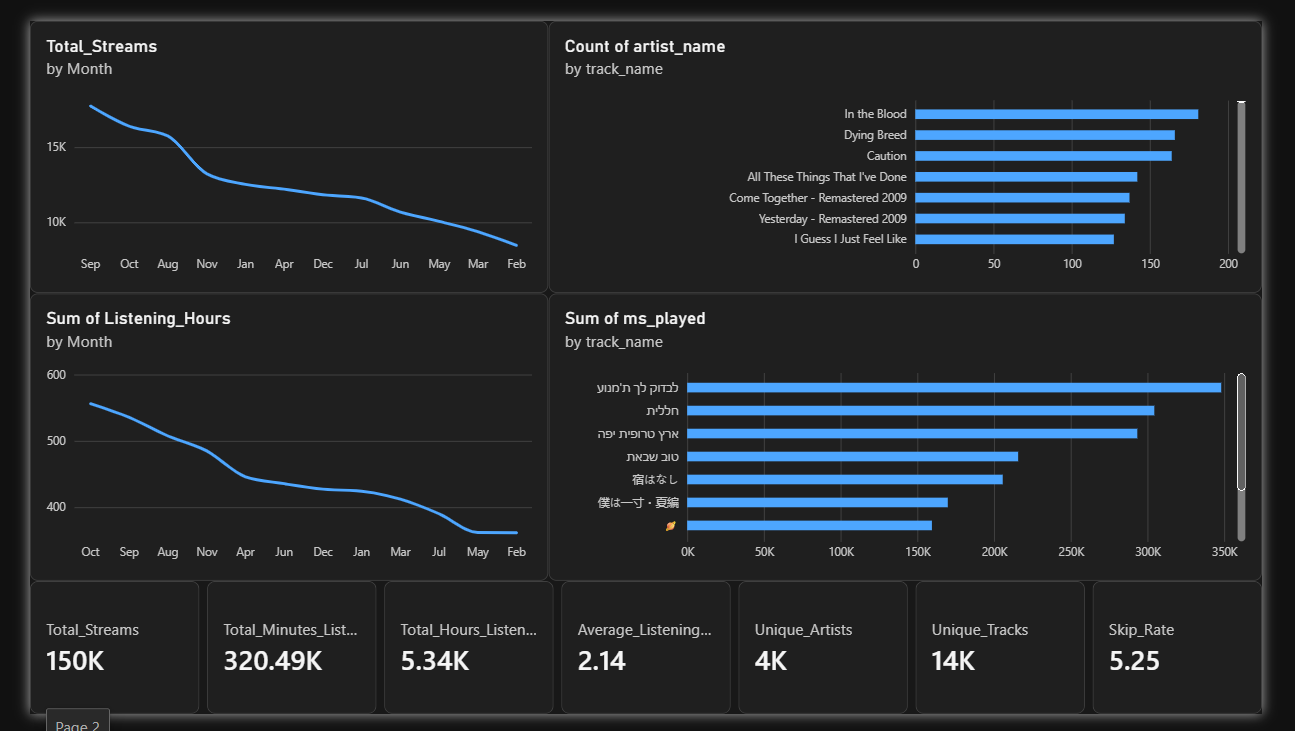

The dashboard page shown, as its layout file describes it:
{"tool":"powerbi","page":{"name":"Page 1","canvas":[1280,720],"ordinal":0},"visuals":[{"type":"cardVisual","fields":{"Data":["spotify_history.Total_Streams","spotify_history.Total_Minutes_Listened","spotify_history.Total_Hours_Listened","spotify_history.Average_Listening_Time","spotify_history.Unique_Artists","spotify_history.Unique_Tracks","spotify_history.Skip_Rate"]},"box":[0,581.7,1280.3,138.2],"z":0},{"type":"lineChart","fields":{"Category":["spotify_history.Month"],"Y":["spotify_history.Total_Streams"]},"box":[0,0,538.7,282.6],"z":1000},{"type":"lineChart","fields":{"Category":["spotify_history.Month"],"Y":["Sum(spotify_history.Listening_Hours)"]},"box":[0,282.6,538.7,298.7],"z":2000},{"type":"clusteredBarChart","fields":{"Category":["spotify_history.track_name"],"Y":["CountNonNull(spotify_history.artist_name)"]},"box":[538.7,0,740.9,282.6],"z":3000},{"type":"clusteredBarChart","fields":{"Category":["spotify_history.track_name"],"Y":["Sum(spotify_history.ms_played)"]},"box":[538.7,282.6,740.9,298.7],"z":4000}]}

Visuals, with their boxes on the page's 1280x720 design canvas (x1, y1, x2, y2). These are canvas units, not pixel positions in the 1295x731 screenshot, which may show the page scaled, cropped or inside an application window:
cardVisual - spotify_history.Total_Streams x spotify_history.Total_Minutes_Listened: box=[0, 582, 1280, 720]
lineChart - spotify_history.Month x spotify_history.Total_Streams: box=[0, 0, 539, 283]
lineChart - spotify_history.Month x Sum(spotify_history.Listening_Hours): box=[0, 283, 539, 581]
clusteredBarChart - spotify_history.track_name x CountNonNull(spotify_history.artist_name): box=[539, 0, 1280, 283]
clusteredBarChart - spotify_history.track_name x Sum(spotify_history.ms_played): box=[539, 283, 1280, 581]
